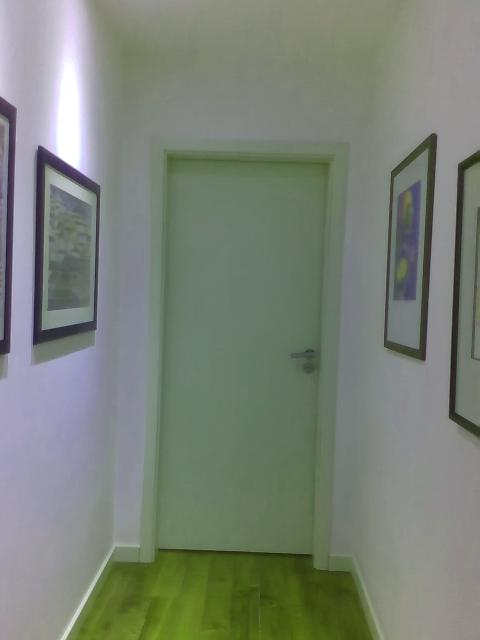closed_door: (153, 154, 327, 550)
